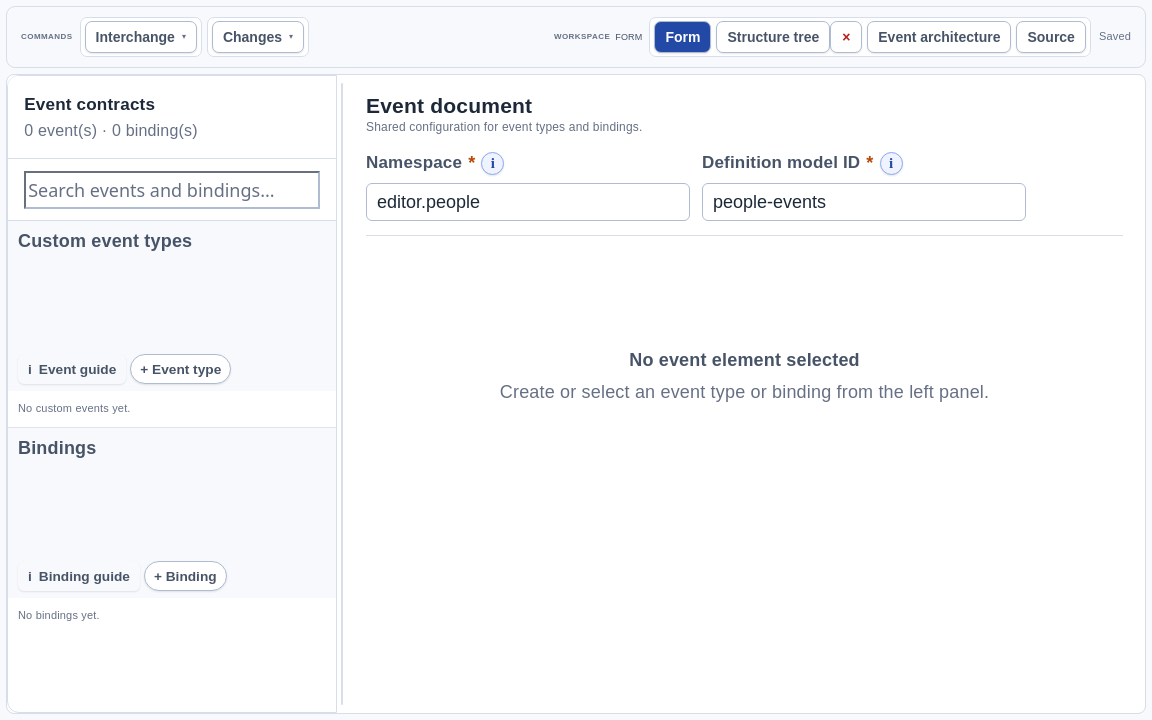
Test: event designer › creates a custom event type and explains its event data at a high level
Click the button "+ Event type": (181, 369) [130,354,231,384]
(page scrolled)
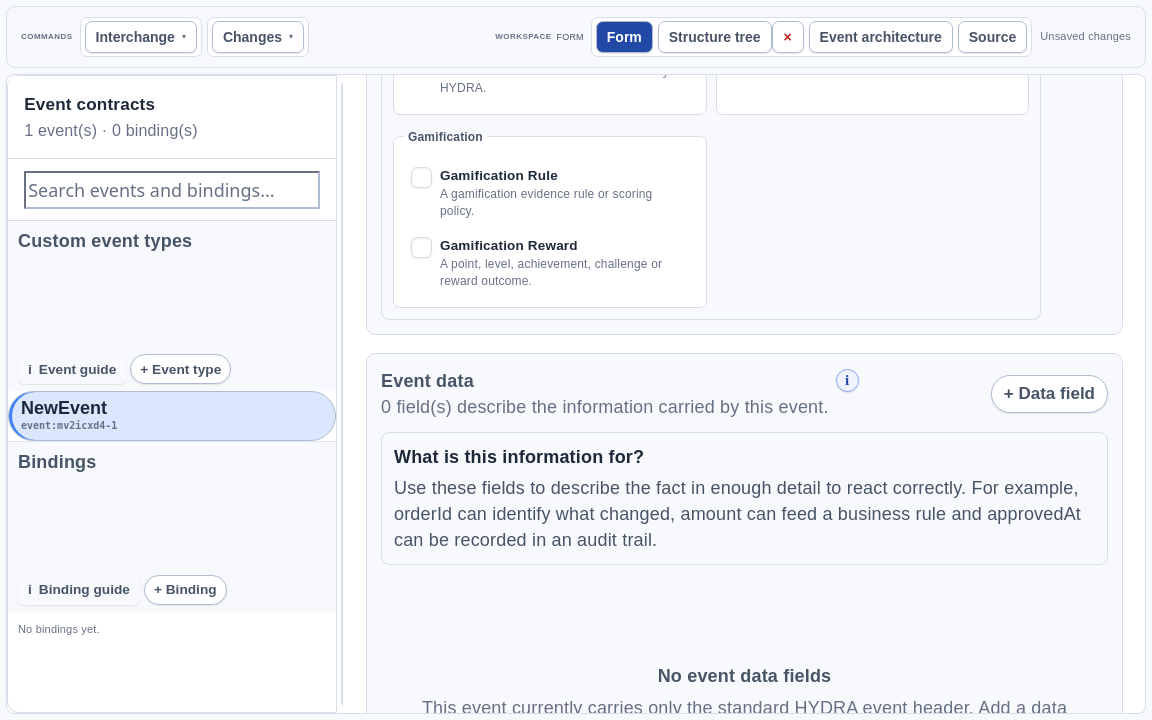
Expected: the text "What is this information for?" is shown, [394,447,644,467]
Expected: the text "orderId can identify what changed" is shown, [394,478,1081,550]
Click the button "+ Data field": (1049, 394) [991,375,1108,413]
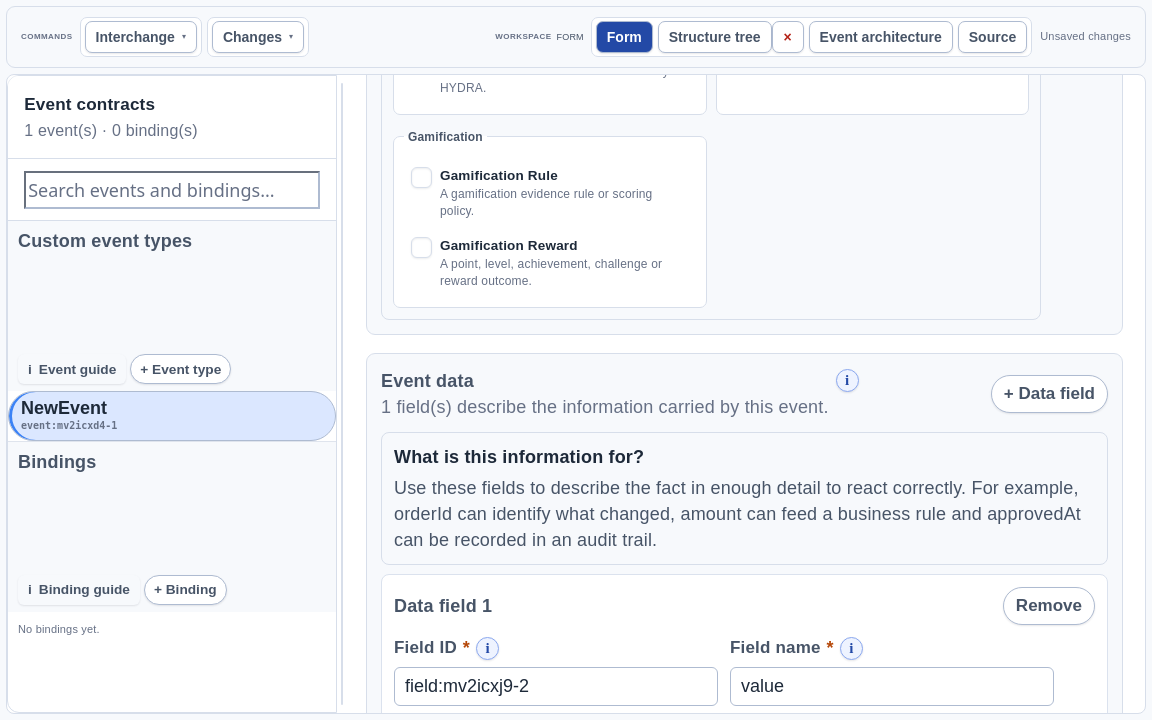
Expected: the field labelled "Field name" holds "value", [730,667,1054,706]
